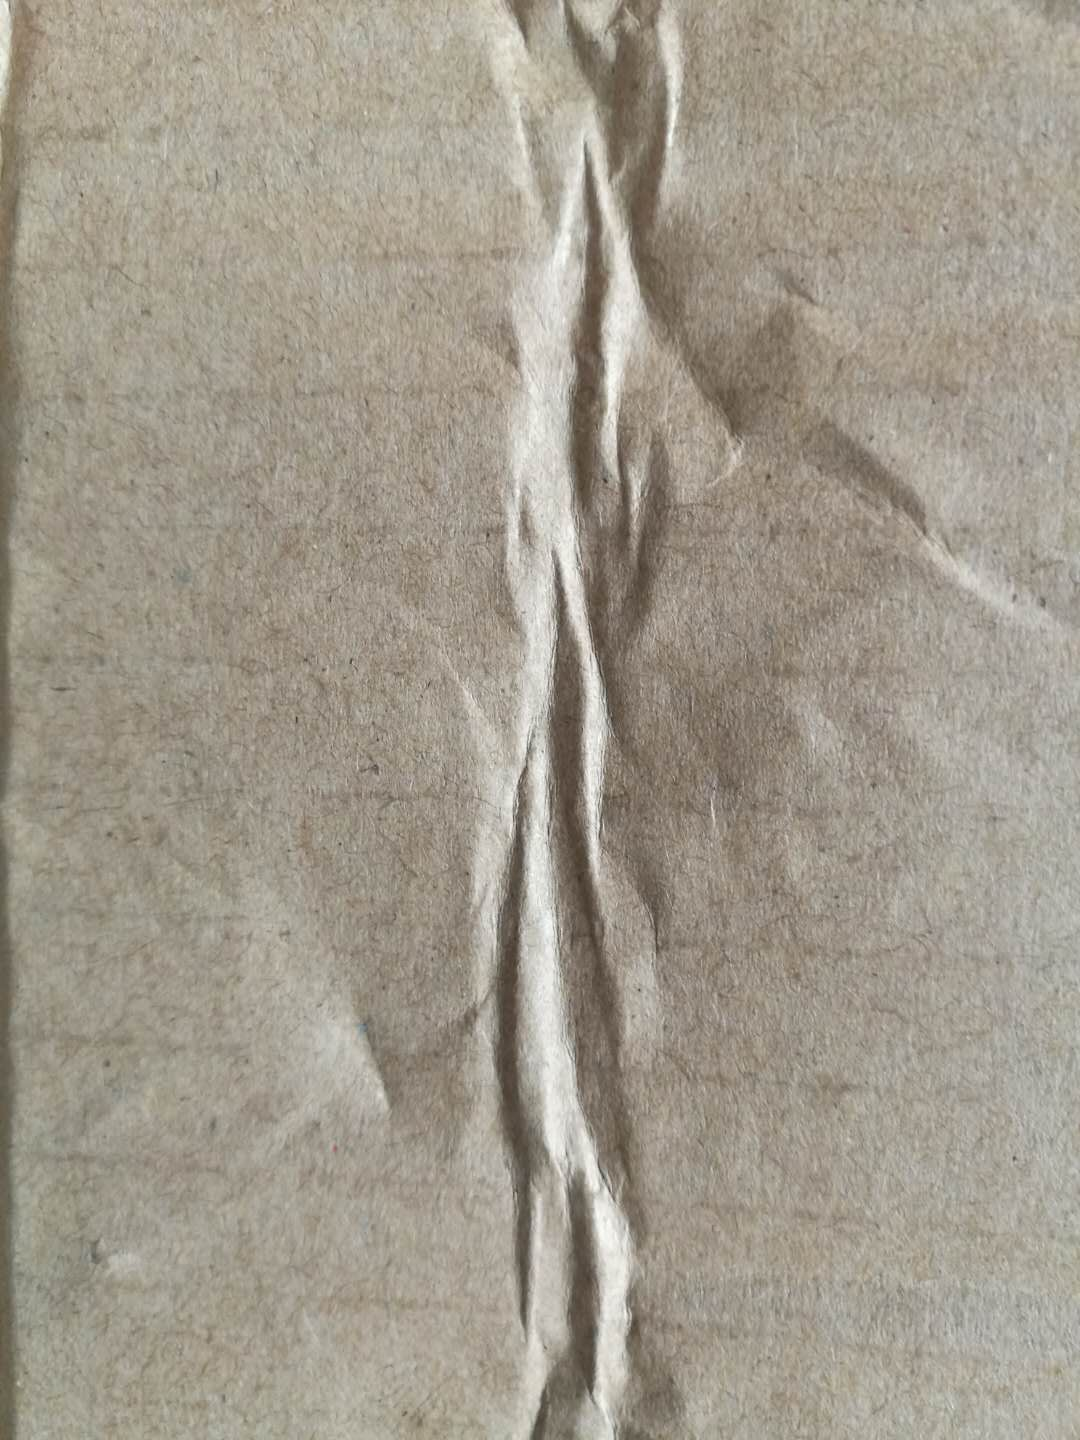defect: (414, 1, 1073, 1440), (9, 933, 508, 1281), (1, 5, 111, 653)
